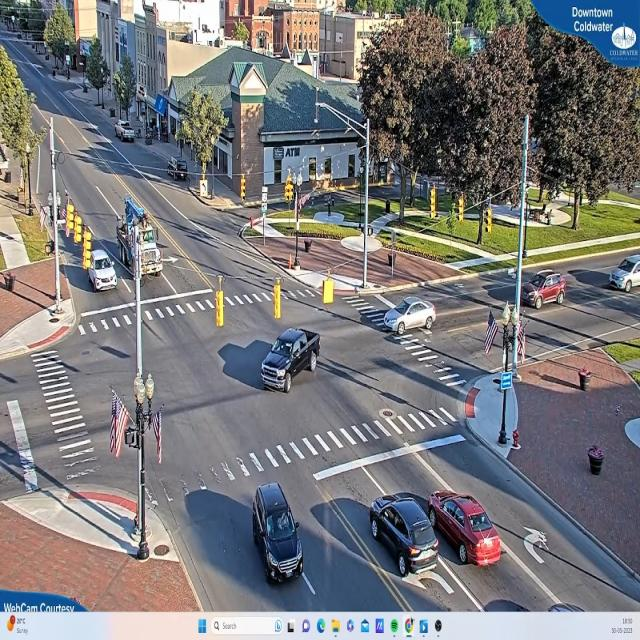car: (369, 492, 442, 578), (427, 491, 505, 568), (253, 485, 304, 585), (262, 328, 322, 394), (385, 298, 435, 336), (525, 274, 566, 309), (88, 248, 116, 295), (609, 256, 640, 293), (118, 121, 136, 145)
truck: (114, 191, 166, 284)
